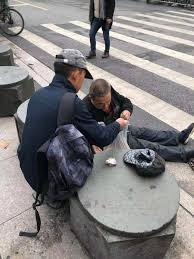falling: (83, 71, 190, 164)
